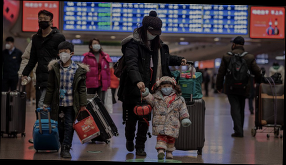with_mask: (37, 15, 51, 30), (58, 49, 72, 63), (146, 29, 158, 42), (161, 83, 174, 95), (92, 42, 101, 53), (5, 41, 14, 50)
